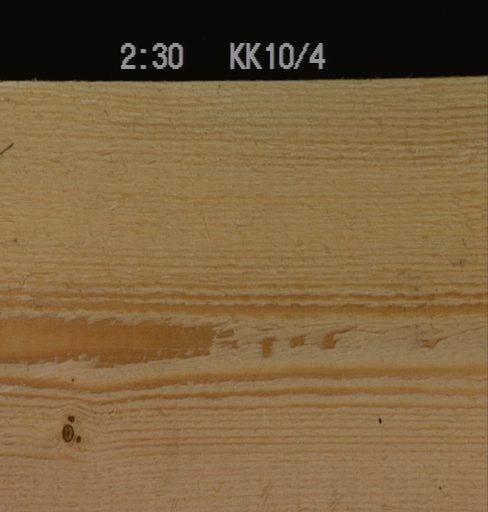dry_knot: (60, 409, 82, 447)
